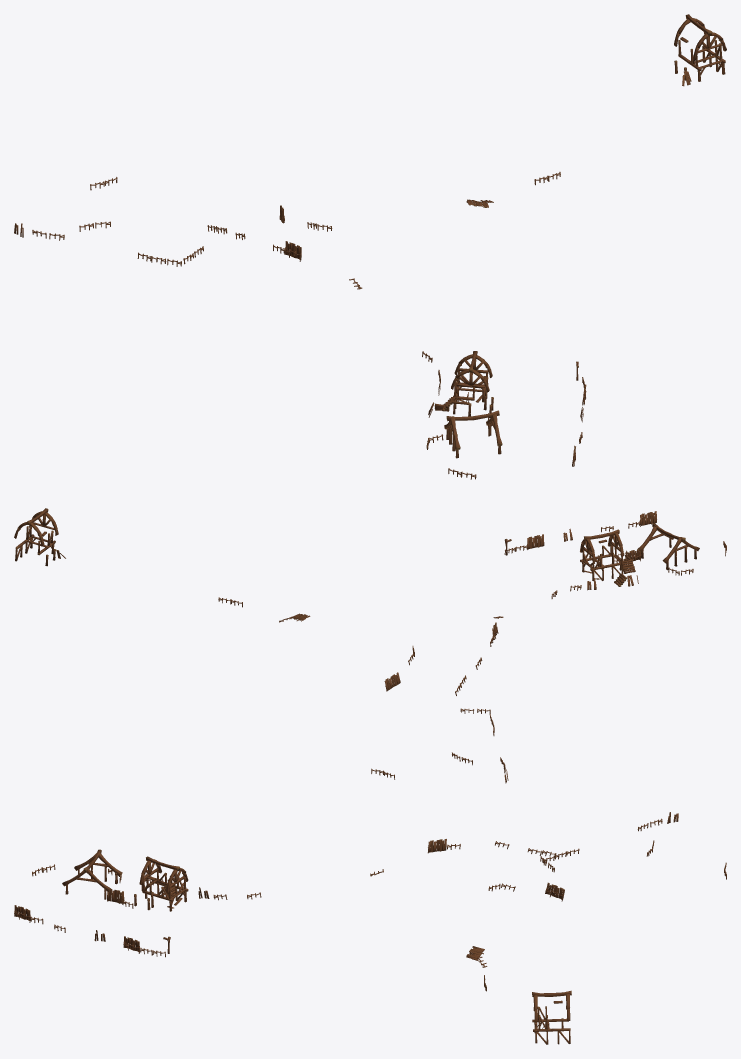
Rendered from WoodBlockFive.FBX.
3 views of the same model, one above another, from view 1: azimuth 30°, elevation 25°; view 2: azimuth 150°, elevation 25°; view 3: azimuth 270°, elevation 25° (orthographic). The views are drawn at different scales.
Visible parts, largest first — view 1: Object2830; view 2: Object2830; view 3: Object2830.
Boxes of the visible parts, box(x1,y1,x2,y2) form: Object2830: box(14, 14, 726, 479); Object2830: box(14, 508, 726, 783); Object2830: box(14, 812, 726, 1044).
Bounding box in the file's own units: 291 × 55.15 × 315.
